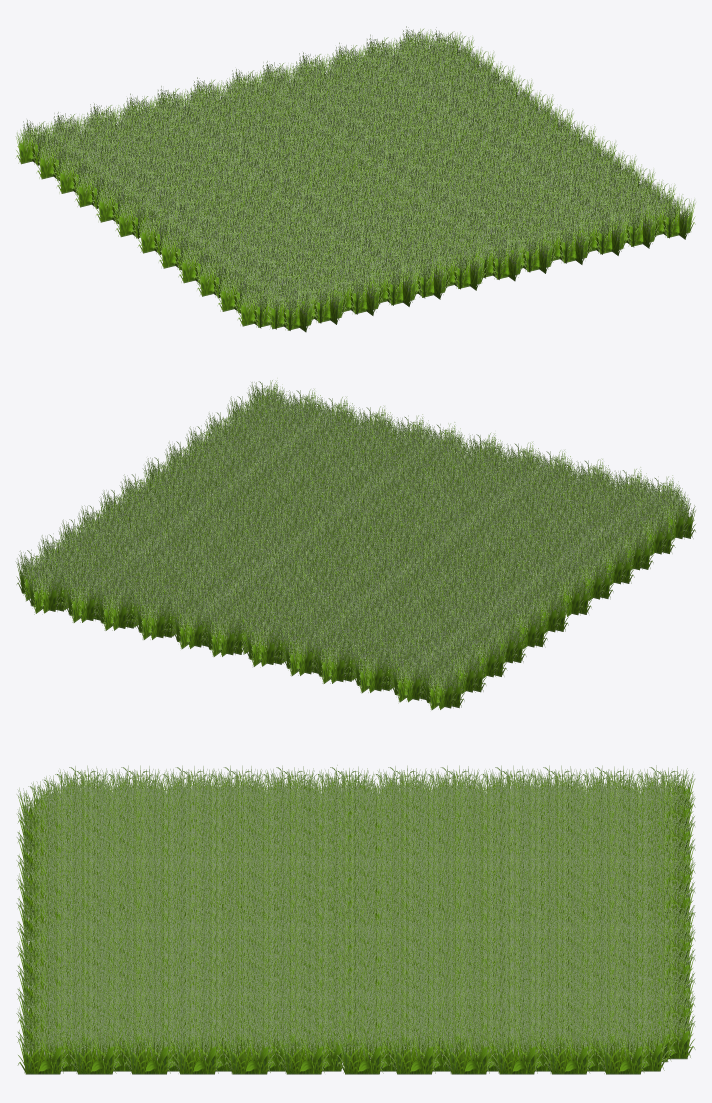
The model's file is Tall Green Field.glb.
3 renders of one model, top to bottom at view 1: azimuth 30°, elevation 25°; view 2: azimuth 150°, elevation 25°; view 3: azimuth 270°, elevation 25°, orthographic. The views are drawn at different scales.
Visible parts, largest first — view 1: 78f67a44e13965ae3008bbb284401925.000_78f67a44e13965ae3008bbb; view 2: 78f67a44e13965ae3008bbb284401925.000_78f67a44e13965ae3008bbb; view 3: 78f67a44e13965ae3008bbb284401925.000_78f67a44e13965ae3008bbb.
Boxes of the visible parts, x1,y1,x2,y2 form: 78f67a44e13965ae3008bbb284401925.000_78f67a44e13965ae3008bbb: [15, 26, 695, 332]; 78f67a44e13965ae3008bbb284401925.000_78f67a44e13965ae3008bbb: [15, 378, 695, 710]; 78f67a44e13965ae3008bbb284401925.000_78f67a44e13965ae3008bbb: [16, 765, 695, 1074].
Bounding box in the file's own units: 16.35 × 1.58 × 16.56.
1 material, 1 textured.
